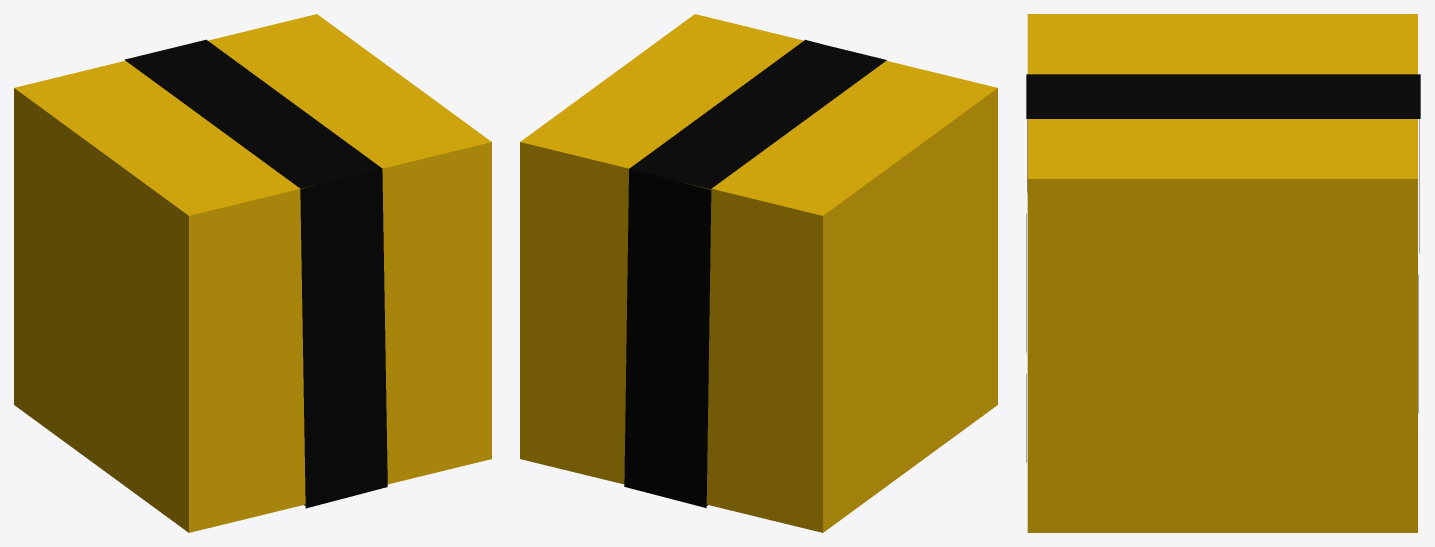
Rendered from package.fbx.
3 views of the same model, side by side, from view 1: azimuth 30°, elevation 25°; view 2: azimuth 150°, elevation 25°; view 3: azimuth 270°, elevation 25° (orthographic). The views are drawn at different scales.
Visible parts, largest first — view 1: Cube, Plane.002, Plane.001; view 2: Cube, Plane, Plane.001; view 3: Cube, Plane.001.
Part boxes in pixels (box(x1,y1,x2,y2)): Cube: box(14, 14, 491, 532); Plane.002: box(300, 168, 387, 508); Plane.001: box(124, 39, 382, 188); Cube: box(520, 14, 997, 532); Plane: box(624, 169, 711, 507); Plane.001: box(629, 40, 886, 189); Cube: box(1027, 14, 1417, 532); Plane.001: box(1026, 74, 1420, 118).
Size of the model in its own units: 200 by 203 by 202.
